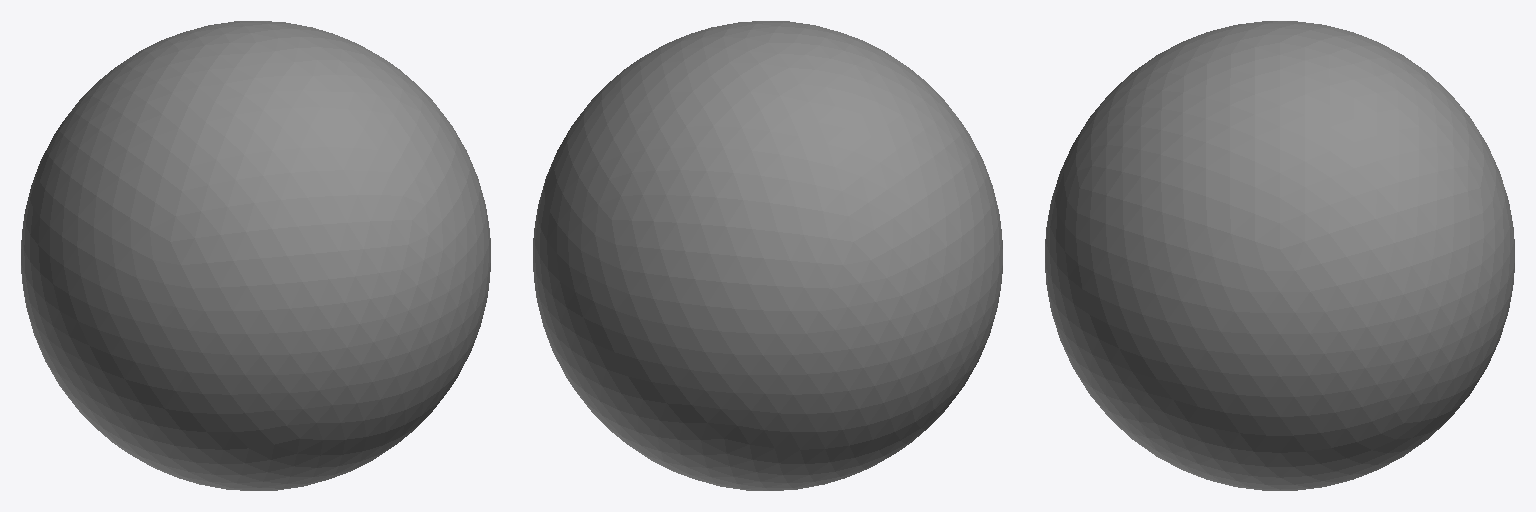
File: jupiter.obj
3 views of the same model, side by side, from view 1: azimuth 30°, elevation 25°; view 2: azimuth 150°, elevation 25°; view 3: azimuth 270°, elevation 25° (orthographic).
Visible parts, largest first — view 1: GeoSphere002; view 2: GeoSphere002; view 3: GeoSphere002.
Part boxes in pixels (x1,y1,x2,y2): GeoSphere002: (21,21,490,490); GeoSphere002: (533,21,1002,490); GeoSphere002: (1045,21,1514,490).
Bounding box in the file's own units: 140 × 140 × 140.